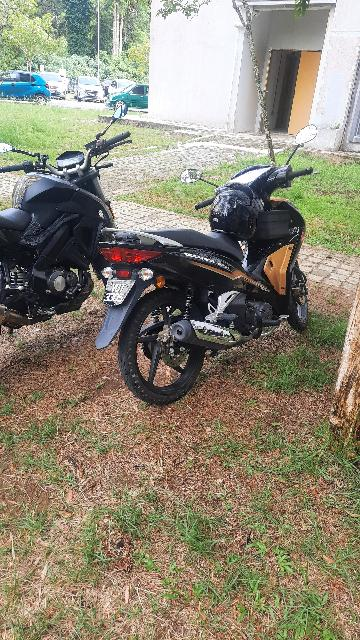License_Plate: (102, 281, 138, 308)
motorcycle: (92, 117, 322, 407)
